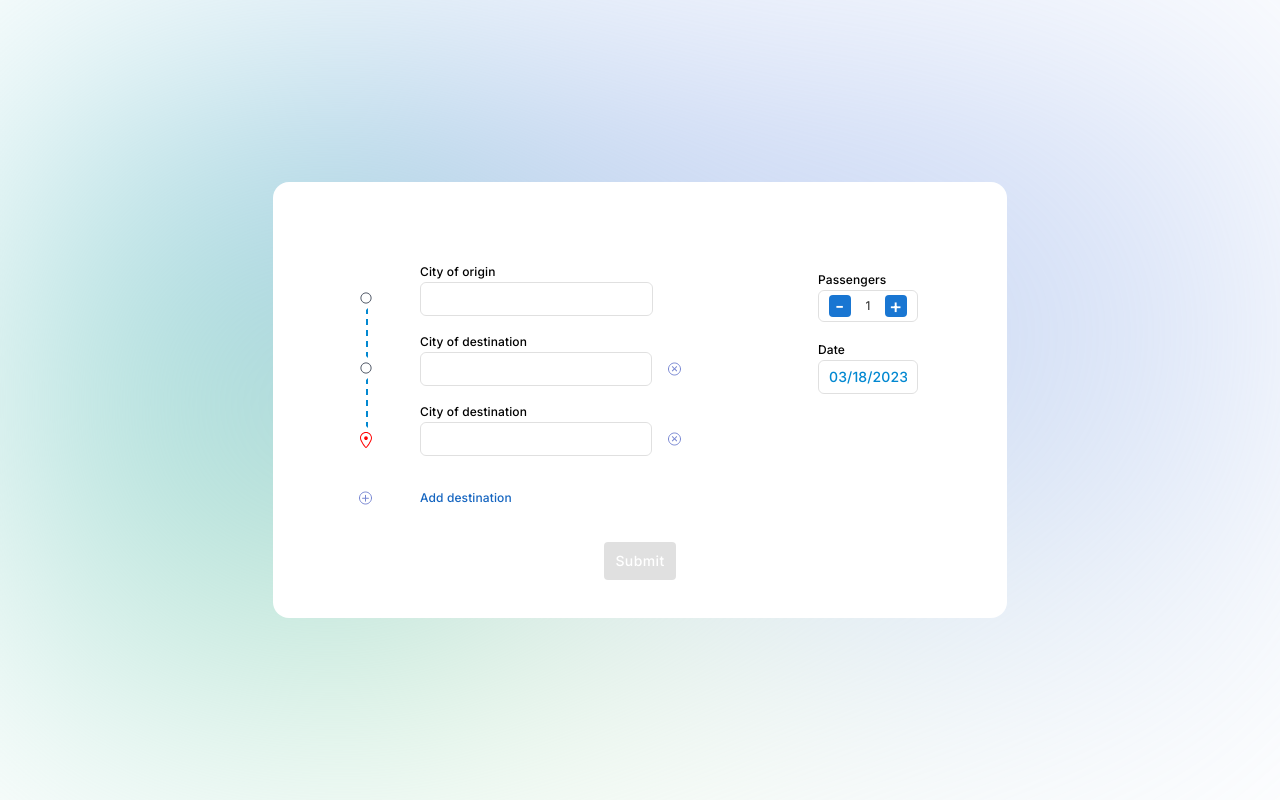
it: Search › should remove one destination field when click remove button
Click the 1st picture with test id "remove-field-icon" at (674, 369), box [668,352,681,386]
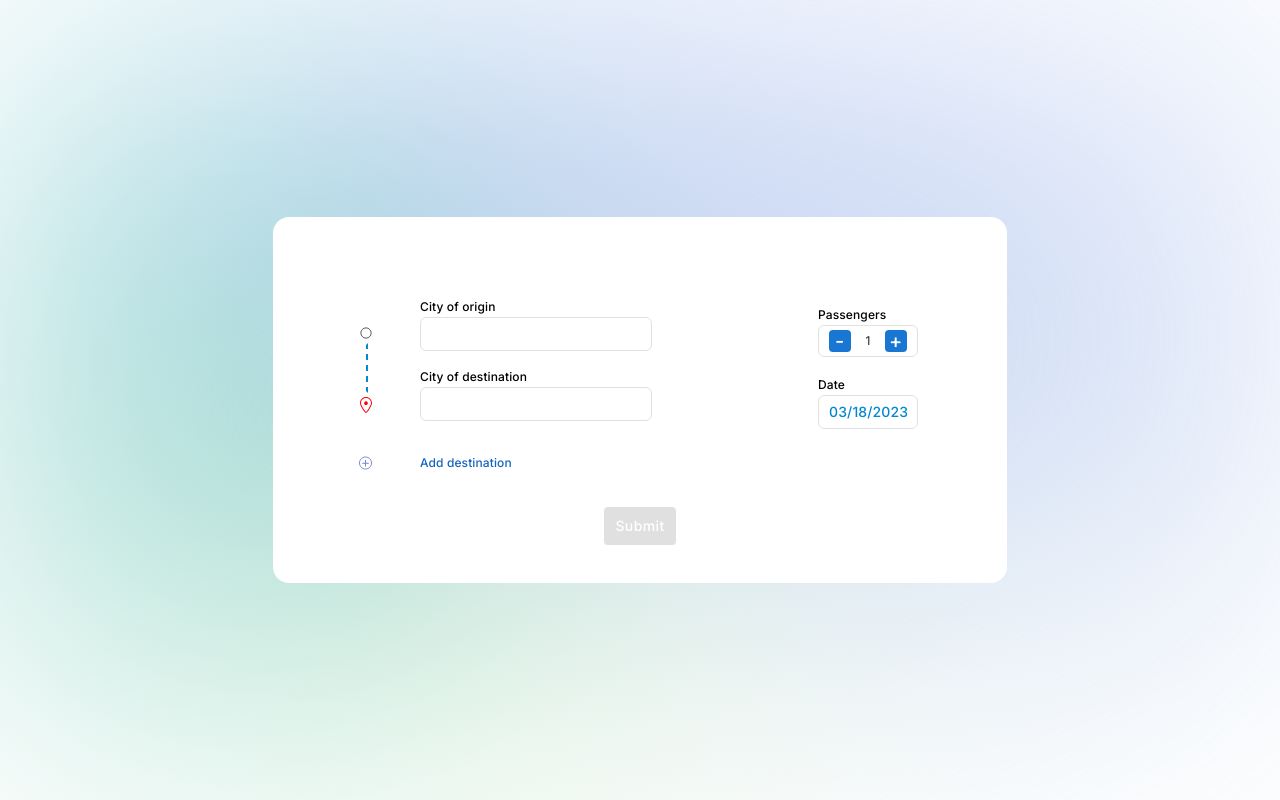
expect the number of elements with test id "async-autocomplete" is 2: met, box [420,299,652,351]; [420,369,652,421]
